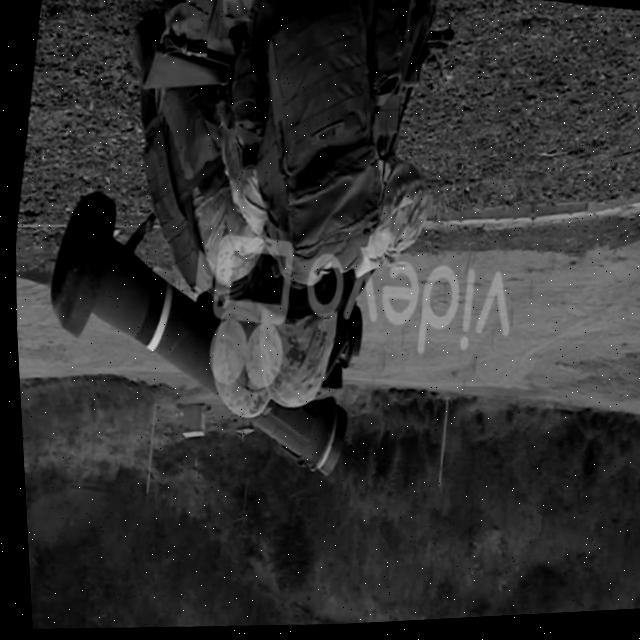rocket: (22, 178, 371, 492)
